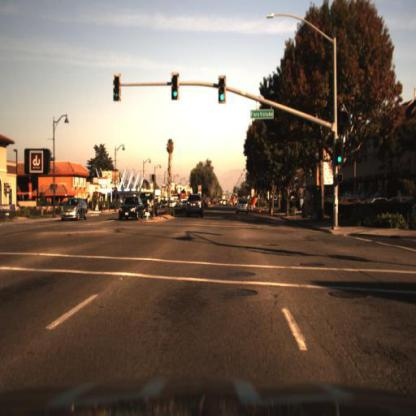car: (120, 193, 147, 223), (60, 198, 89, 223), (188, 192, 211, 220), (334, 191, 360, 211), (360, 192, 386, 210), (147, 193, 160, 218), (234, 198, 250, 217), (166, 193, 177, 214)
trafficLight-Green: (216, 66, 226, 105), (336, 140, 345, 172), (172, 72, 180, 103), (336, 140, 345, 163)
trafficLight-GreenLeft: (113, 73, 123, 102)
